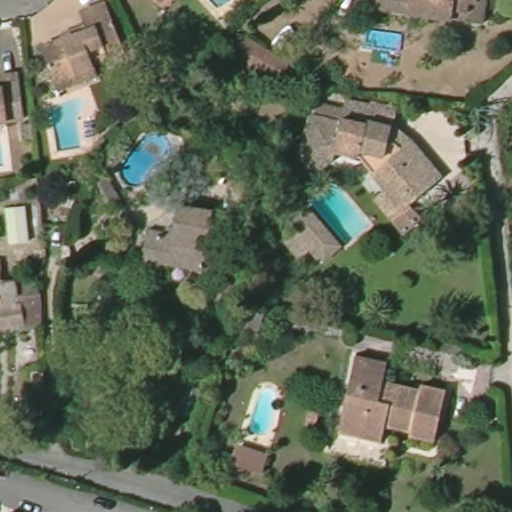pool: (304, 177, 375, 244), (113, 130, 176, 190), (42, 93, 100, 158), (240, 383, 284, 439), (358, 27, 405, 62)
